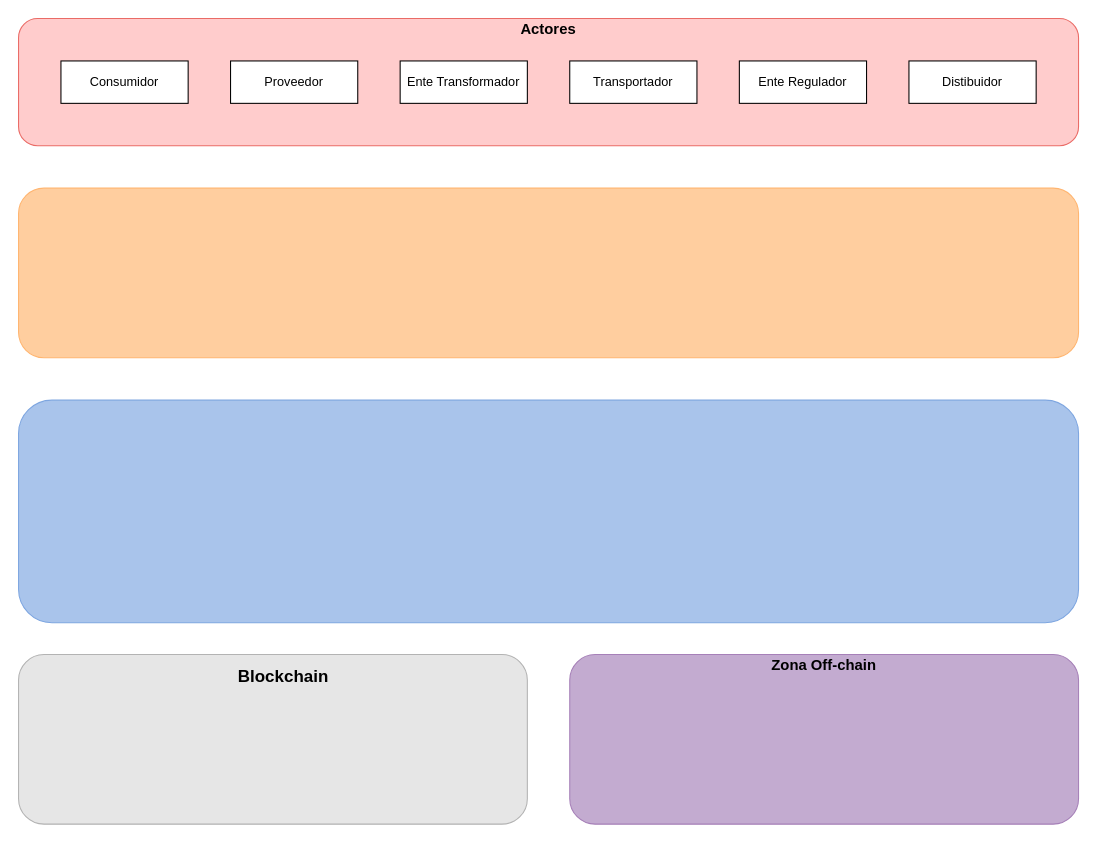
The diagram is 1097 pixels wide and 843 high, and some of its shapes have lost their labels. Here are the shapes that lost their labels. From the top down, the centre of each, then its label:
(x=548, y=272): Zona de Canales
(x=548, y=511): Zona de Servicios o Linea de Negocio
